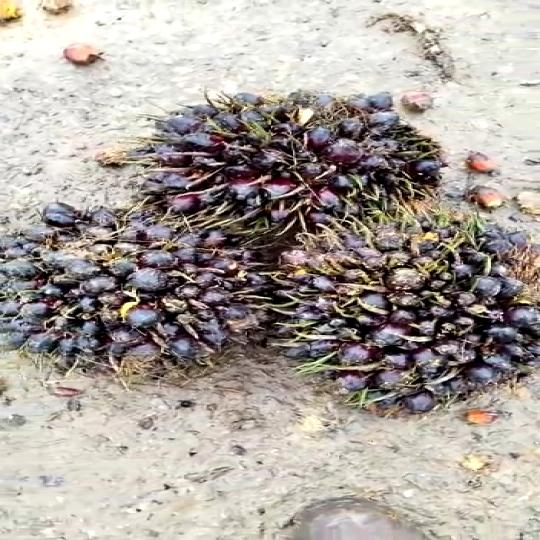mentah: (136, 87, 459, 267), (270, 208, 540, 402), (11, 197, 302, 374)
